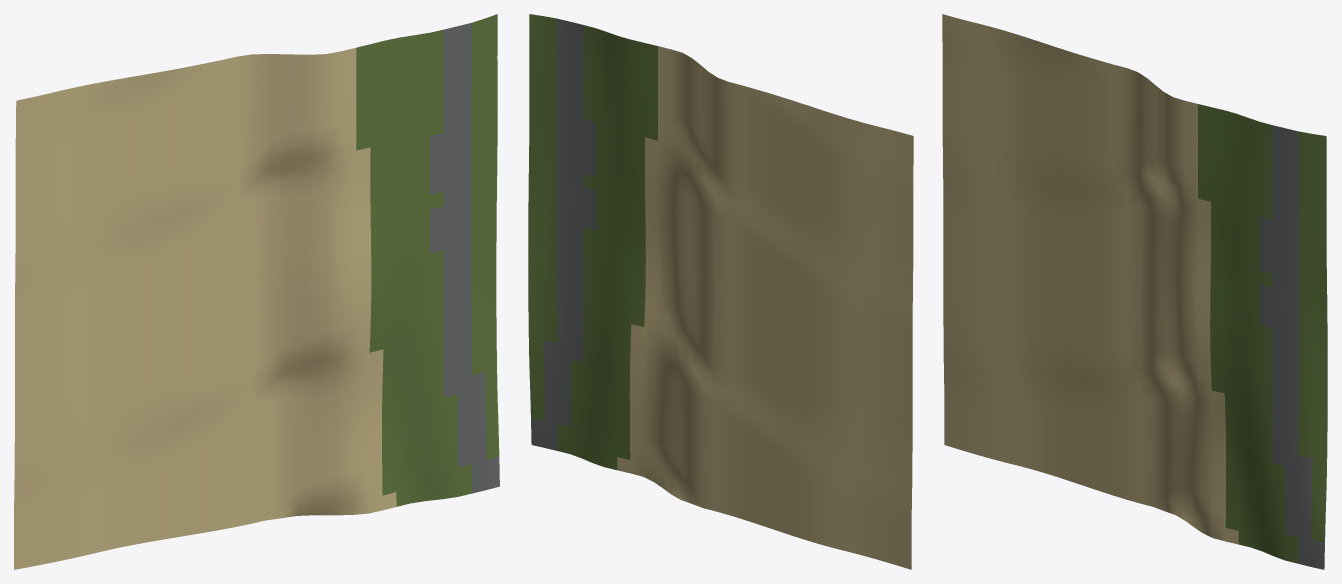
Rendered from island_terrain_01_05.obj.
3 renders of one model, left to right at view 1: azimuth 30°, elevation 25°; view 2: azimuth 150°, elevation 25°; view 3: azimuth 330°, elevation 25°, orthographic. The views are drawn at different scales.
Visible parts, largest first — view 1: island_terrain_01_05; view 2: island_terrain_01_05; view 3: island_terrain_01_05.
Part boxes in pixels (x1,y1,x2,y2): island_terrain_01_05: (14, 14, 499, 569); island_terrain_01_05: (528, 14, 913, 569); island_terrain_01_05: (942, 14, 1327, 569).
Size of the model in its own units: 256 by 256 by 35.74.
